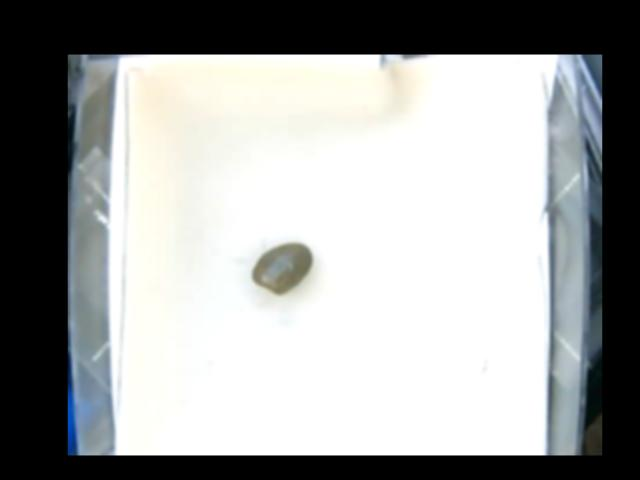Pebble: (251, 241, 314, 294)
